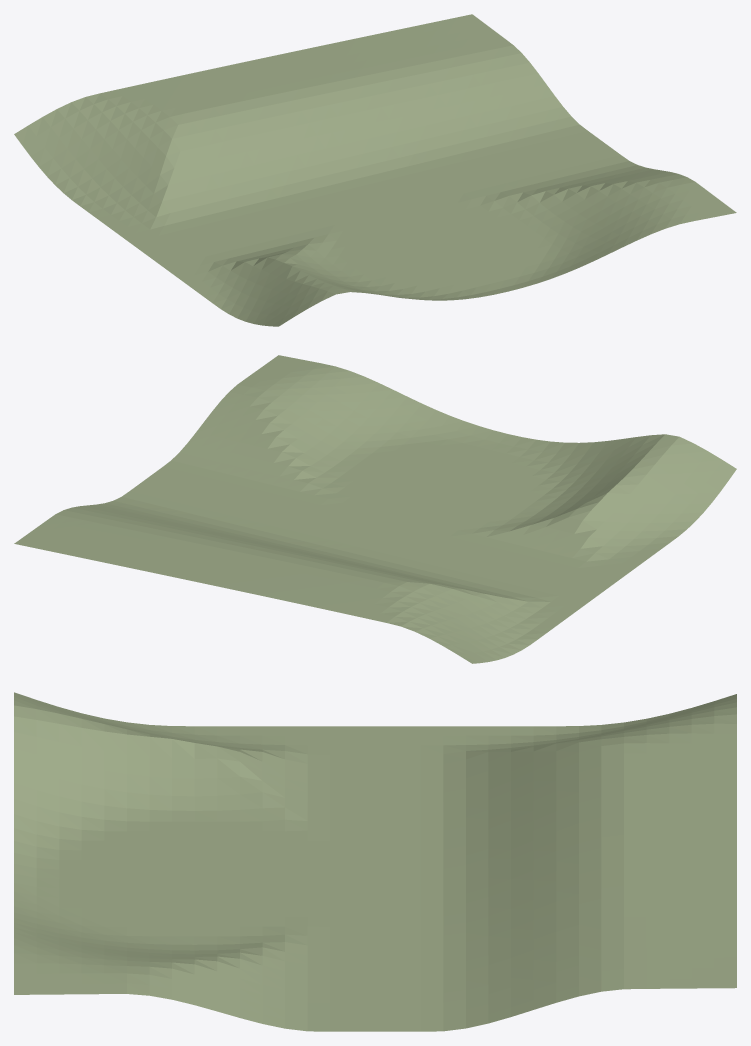
The model's file is gardens-2-1.glb.
The picture shows the model from 3 angles, top to bottom: view 1: azimuth 30°, elevation 25°; view 2: azimuth 150°, elevation 25°; view 3: azimuth 270°, elevation 25°; orthographic projection. The views are drawn at different scales.
Visible parts, largest first — view 1: gardens-2-1; view 2: gardens-2-1; view 3: gardens-2-1.
Boxes of the visible parts, left/top/right/bottom form: gardens-2-1: left=14, top=14, right=736, bottom=326; gardens-2-1: left=14, top=355, right=736, bottom=663; gardens-2-1: left=14, top=692, right=736, bottom=1031.
Bounding box in the file's own units: 256 × 23.33 × 256.
